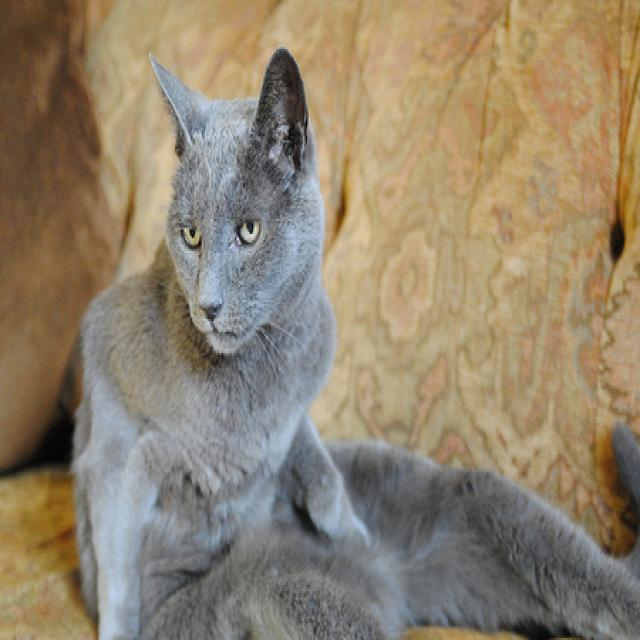Russian Blue: (65, 42, 639, 640)
